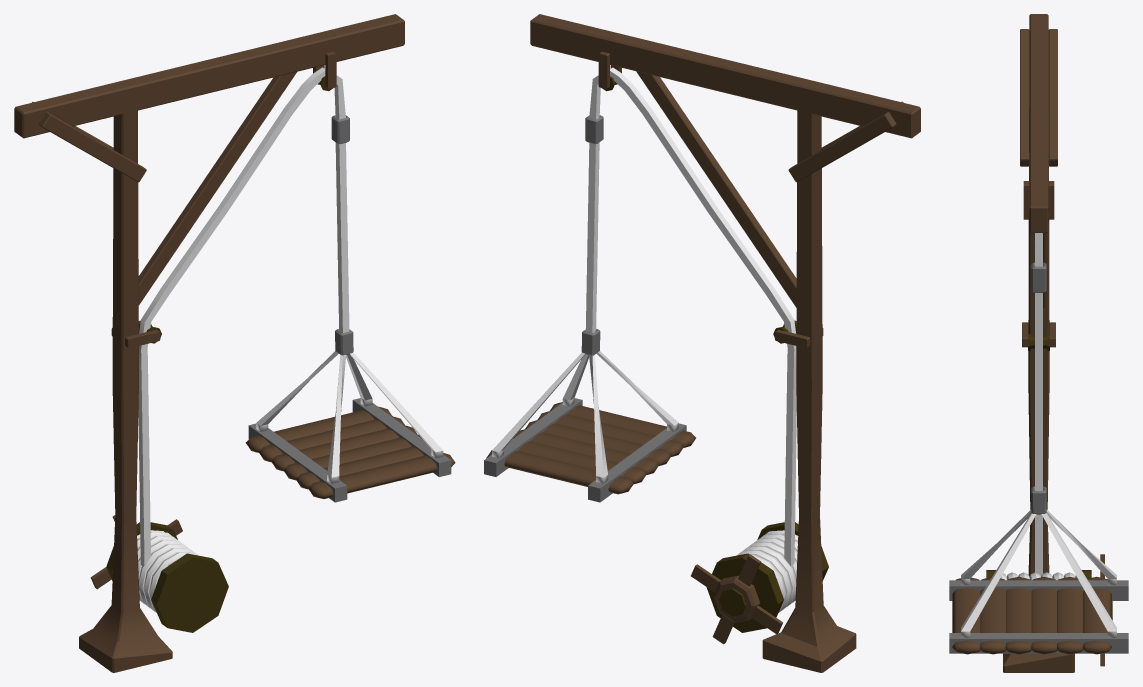
The model's file is wooden-crane.fbx.
3 renders of one model, left to right at view 1: azimuth 30°, elevation 25°; view 2: azimuth 150°, elevation 25°; view 3: azimuth 270°, elevation 25°, orthographic. The views are drawn at different scales.
Parts seen in each view (by area): view 1: group2_pCube1; view 2: group2_pCube1; view 3: group2_pCube1.
Boxes of the visible parts, x1,y1,x2,y2 form: group2_pCube1: (14,14,455,672); group2_pCube1: (484,14,920,672); group2_pCube1: (949,14,1128,672).
Size of the model in its own units: 6.6 by 9.01 by 2.48.
